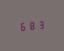eight: (28, 20, 36, 30)
six: (18, 21, 26, 31)
three: (37, 19, 45, 29)
